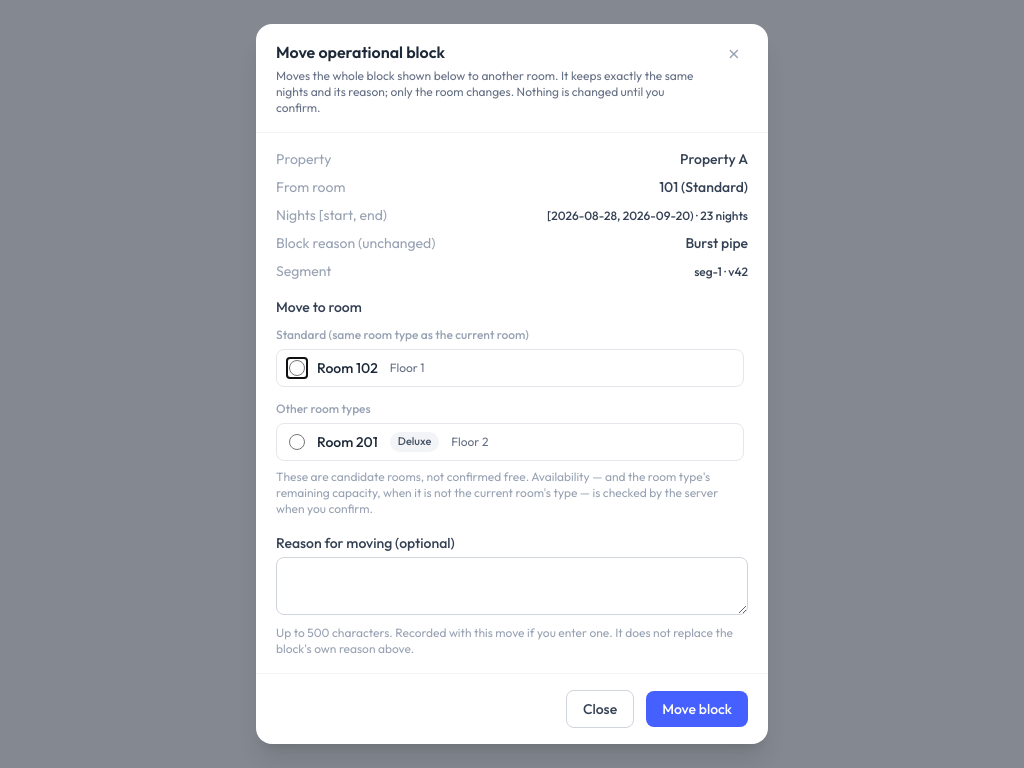
ReservationBlockMoveDialog — what it submits › refuses to submit without a room, says so and focuses the first room
Click the button "Move block". click: (697, 709)
box: [646,691,748,727]
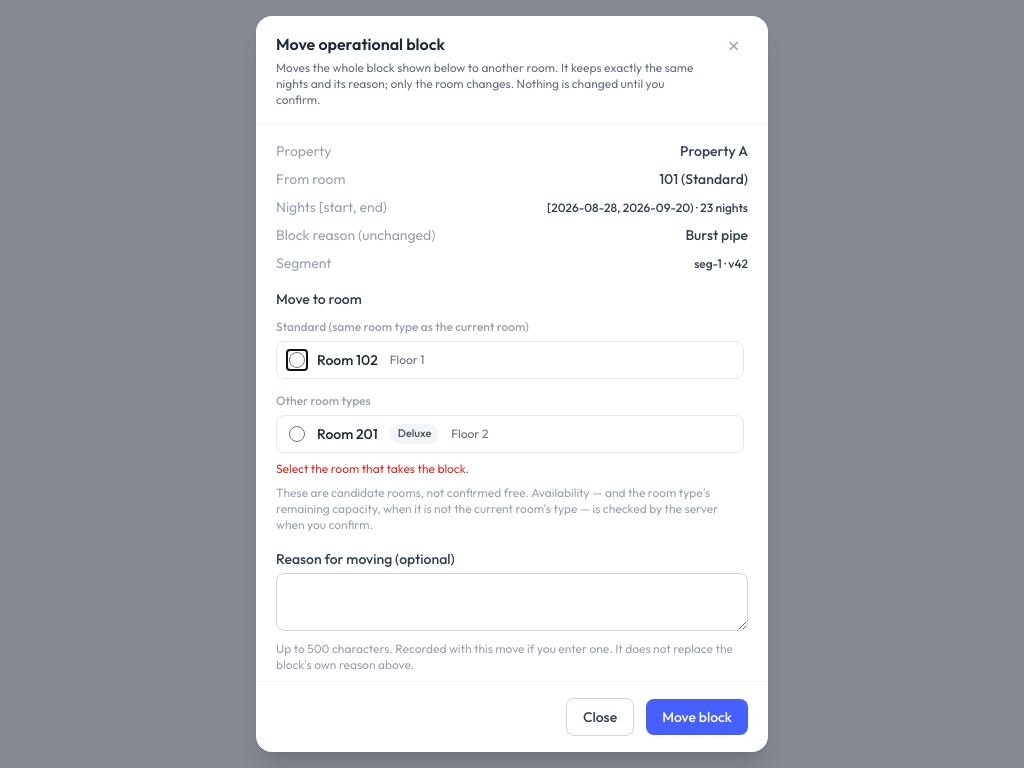
Expected: the message reads "Select the room that takes the block.", [276,461,469,476]
